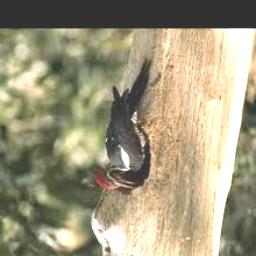Woodpecker: (95, 59, 152, 190)
